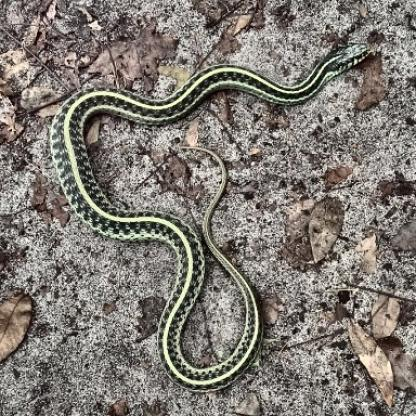Snake: (47, 43, 370, 389)
